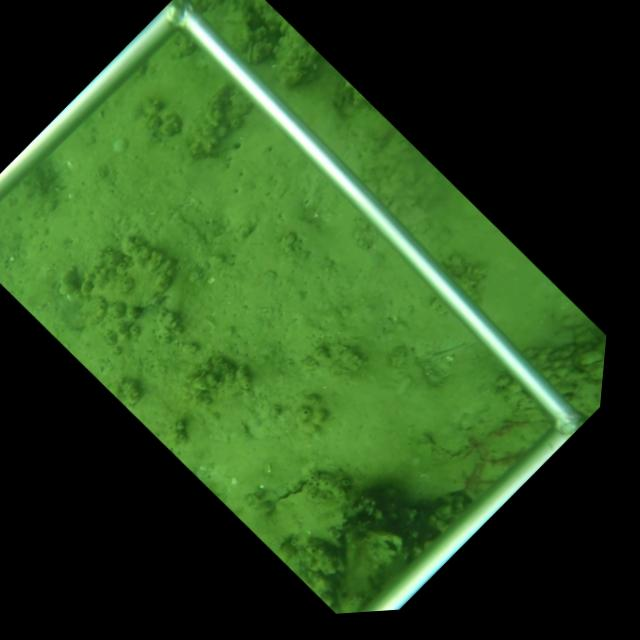Oyster-Indeterminate: (77, 230, 180, 313), (262, 470, 354, 549)
Oyster-Open: (360, 529, 405, 564)
